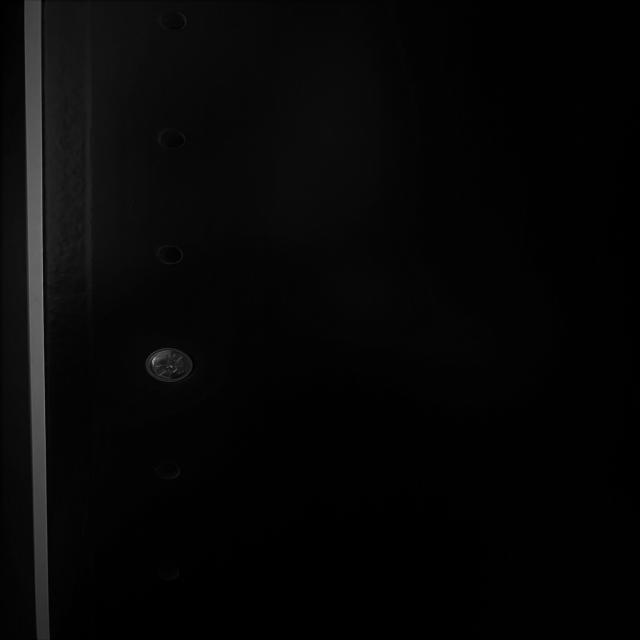PhillipsScrewHead: (143, 346, 195, 384)
